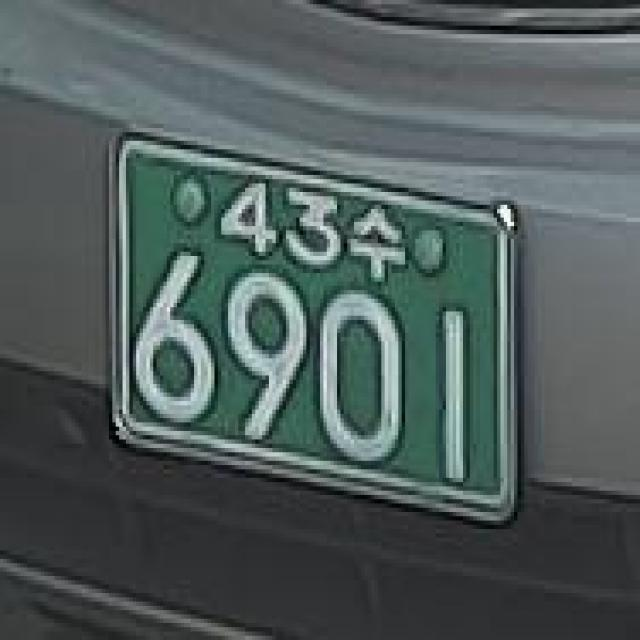illegal_plate: (93, 119, 535, 535)
